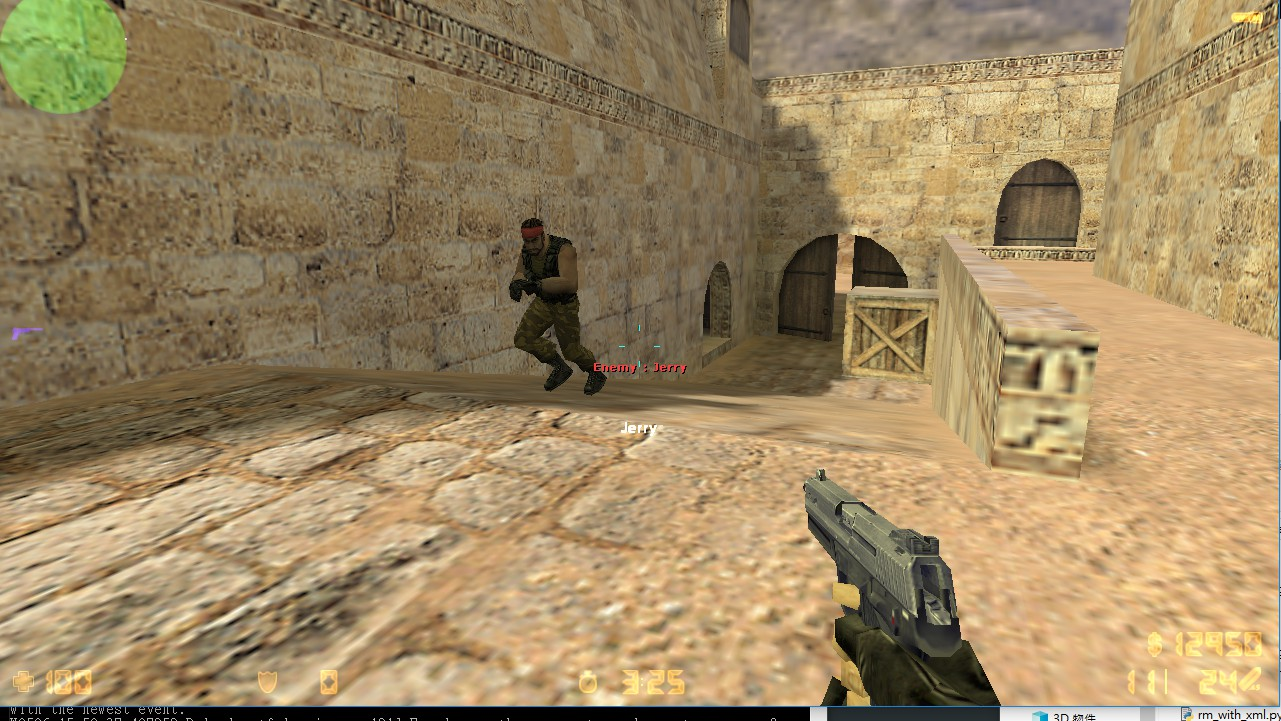person: (492, 201, 606, 405)
